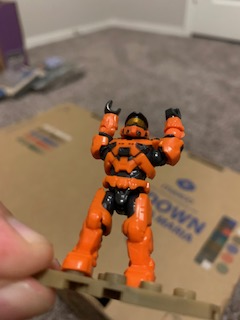spartan: (61, 99, 185, 289)
up: (88, 99, 188, 178)
